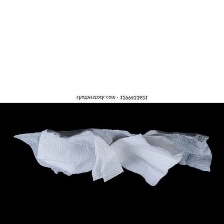tissue: (8, 118, 217, 192)
